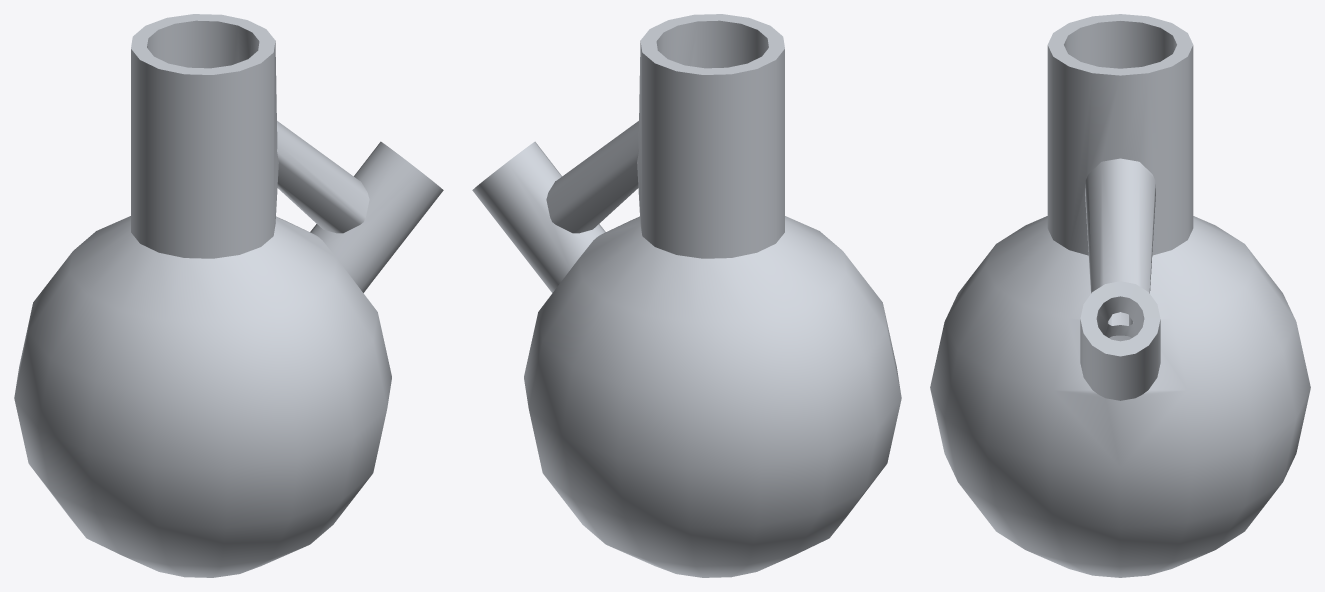
File: bottle_glassware_straus_flask_small.glb
3 renders of one model, left to right at view 1: azimuth 30°, elevation 25°; view 2: azimuth 150°, elevation 25°; view 3: azimuth 270°, elevation 25°, orthographic.
Parts seen in each view (by area): view 1: bottle_glassware_straus_flask_small; view 2: bottle_glassware_straus_flask_small; view 3: bottle_glassware_straus_flask_small.
Boxes of the visible parts, x1,y1,x2,y2 form: bottle_glassware_straus_flask_small: (14, 14, 443, 577); bottle_glassware_straus_flask_small: (472, 14, 901, 577); bottle_glassware_straus_flask_small: (930, 14, 1310, 577).
Bounding box in the file's own units: 11.4 × 14.1 × 9.44.
1 material, 1 textured.
